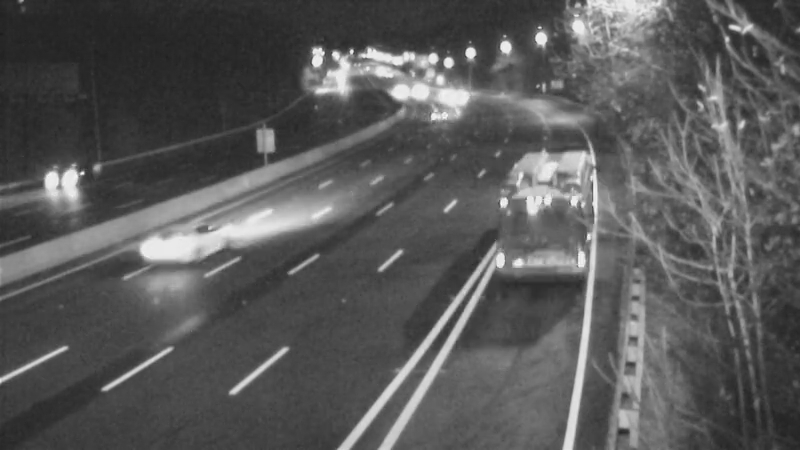vehicle: (498, 147, 578, 227), (147, 195, 227, 275), (18, 137, 98, 217), (391, 67, 441, 117), (369, 66, 419, 116), (421, 70, 471, 120), (426, 73, 476, 123), (408, 89, 458, 139)
